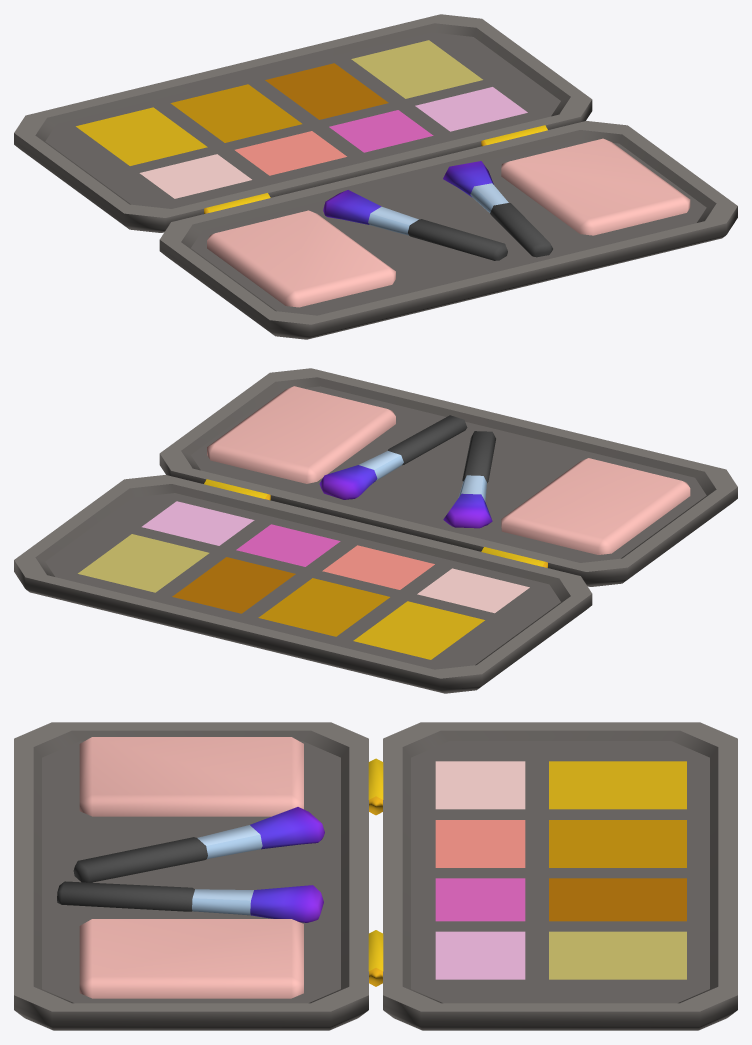
File: Palette.fbx
3 renders of one model, top to bottom at view 1: azimuth 30°, elevation 25°; view 2: azimuth 150°, elevation 25°; view 3: azimuth 270°, elevation 25°, orthographic. The views are drawn at different scales.
Parts seen in each view (by area): view 1: Palette; view 2: Palette; view 3: Palette.
Part boxes in pixels (left/top/right/bottom): Palette: left=14, top=14, right=737, bottom=339; Palette: left=14, top=368, right=737, bottom=693; Palette: left=14, top=722, right=737, bottom=1030.
Bounding box in the file's own units: 5.4 × 0.3014 × 5.71.
